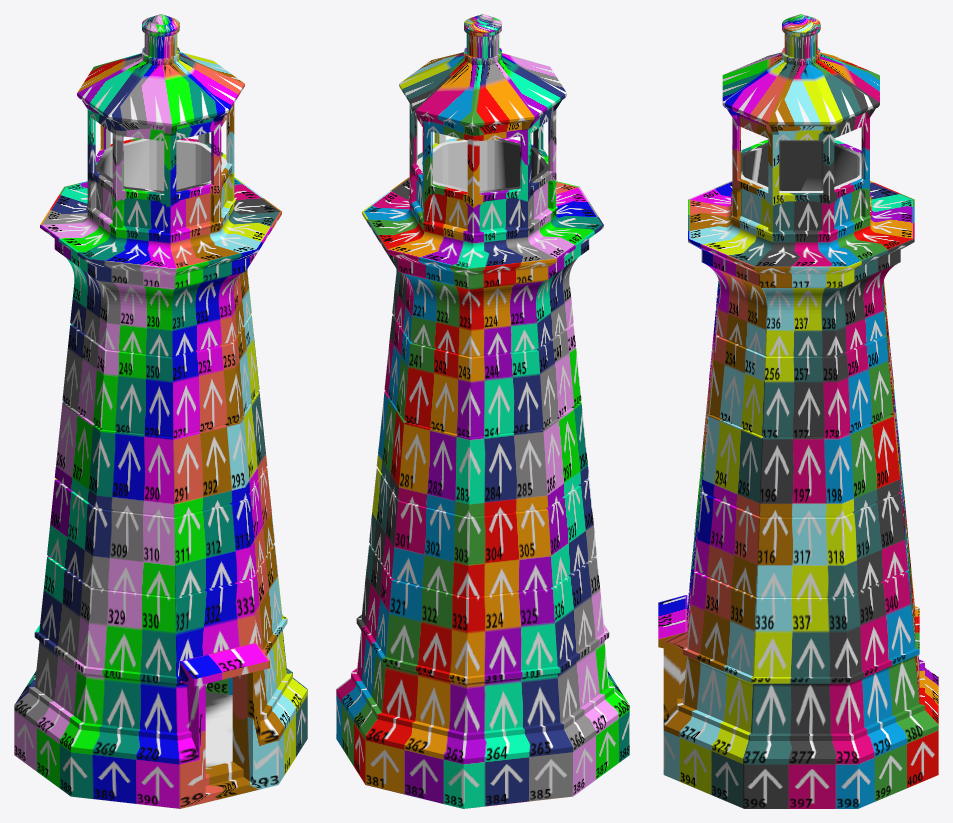
File: Leuchtturm.fbx
3 views of the same model, side by side, from view 1: azimuth 30°, elevation 25°; view 2: azimuth 150°, elevation 25°; view 3: azimuth 270°, elevation 25° (orthographic).
Visible parts, largest first — view 1: lighthouse; view 2: lighthouse; view 3: lighthouse.
Boxes of the visible parts, bbox=[...] form: lighthouse: bbox=[14, 14, 307, 808]; lighthouse: bbox=[336, 14, 629, 808]; lighthouse: bbox=[658, 14, 938, 808].
Size of the model in its own units: 10000 by 29554 by 10200.
Materials: 1 (1 with a texture image).
